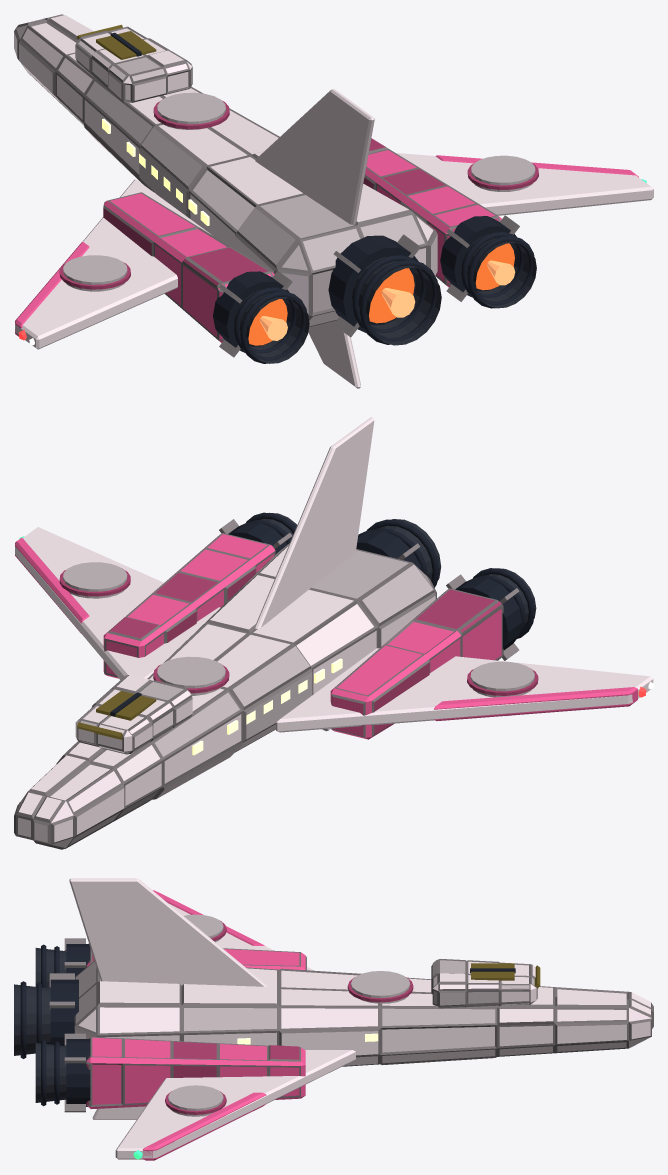
Rendered from seraph.glb.
3 views of the same model, one above another, from view 1: azimuth 30°, elevation 25°; view 2: azimuth 150°, elevation 25°; view 3: azimuth 270°, elevation 25° (orthographic). The views are drawn at different scales.
Parts seen in each view (by area): view 1: seraph_mesh; view 2: seraph_mesh; view 3: seraph_mesh.
Part boxes in pixels (x1=…): seraph_mesh: x1=14, y1=14, x2=653, y2=388; seraph_mesh: x1=14, y1=417, x2=653, y2=849; seraph_mesh: x1=14, y1=878, x2=653, y2=1160.
Size of the model in its own units: 10.76 by 4.6 by 11.08.
